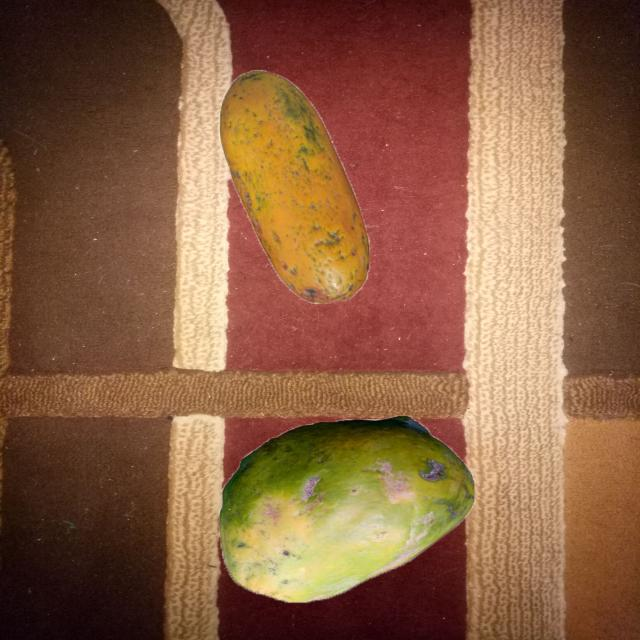Pepaya rippen: (223, 406, 486, 610), (210, 62, 381, 318)
